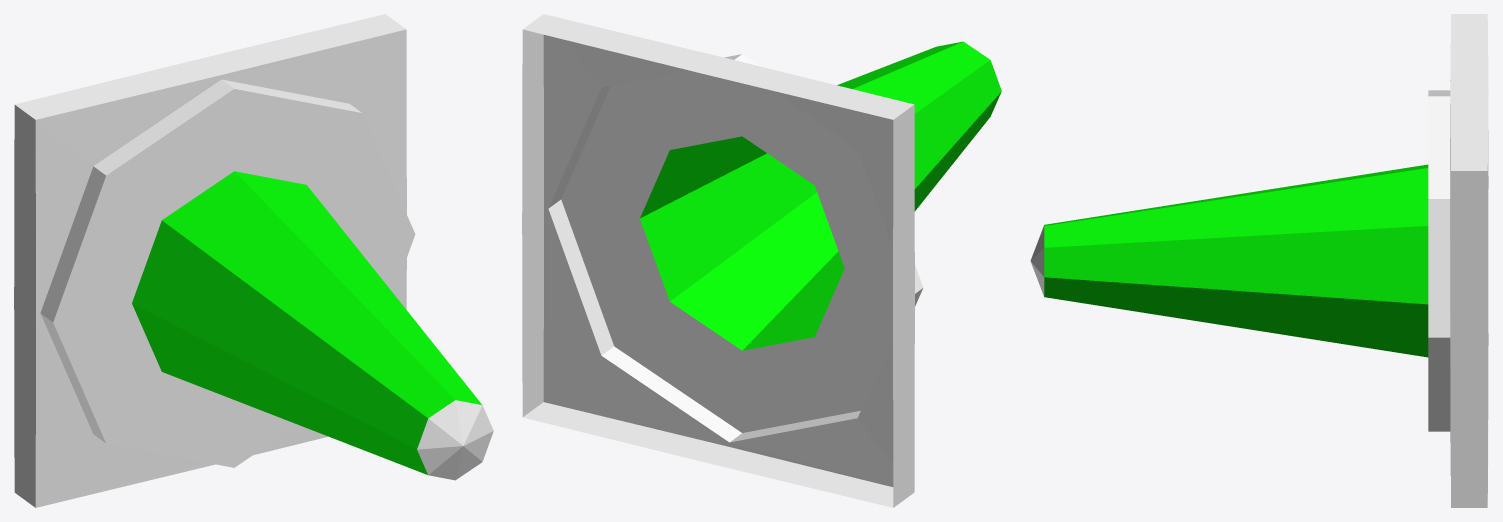
The model's file is barrier_success2.dae.
3 renders of one model, left to right at view 1: azimuth 30°, elevation 25°; view 2: azimuth 150°, elevation 25°; view 3: azimuth 270°, elevation 25°, orthographic. The views are drawn at different scales.
Parts seen in each view (by area): view 1: node; view 2: node; view 3: node.
Part boxes in pixels (x1,y1,x2,y2): node: (14, 14, 493, 507); node: (522, 14, 1001, 507); node: (1030, 14, 1488, 507).
Bounding box in the file's own units: 0.2888 × 0.2888 × 0.3559.
Materials: 1 (1 with a texture image).
